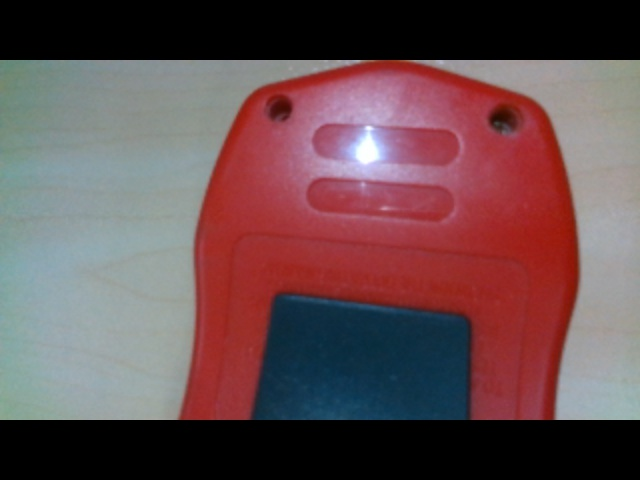Screw holes: (487, 102, 527, 140), (263, 91, 296, 125)
